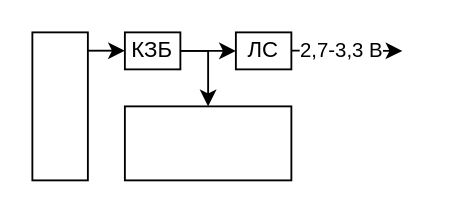
Some shapes in this 450 by 213 pixel diagram are drawn without their labels. The box of each missing label's shape, as (x1, y1, x2, y2) in pixels:
Micro-USB: (31, 31, 88, 180)
Аккумулятор: (123, 105, 291, 180)
